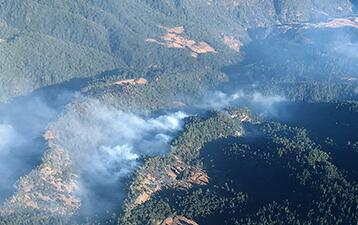smoke: (0, 103, 189, 224), (194, 87, 288, 119)
